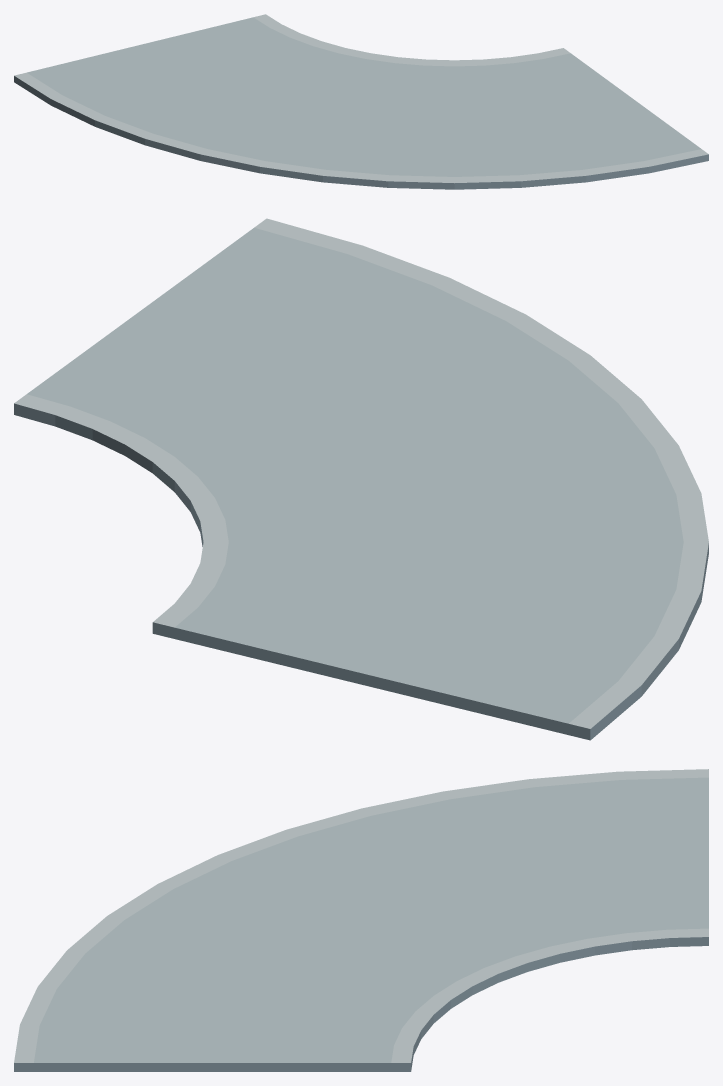
Rendered from campus_walk_bend_v01.glb.
The picture shows the model from 3 angles, top to bottom: view 1: azimuth 30°, elevation 25°; view 2: azimuth 150°, elevation 25°; view 3: azimuth 270°, elevation 25°; orthographic projection. The views are drawn at different scales.
Parts seen in each view (by area): view 1: campus_walk_bend; view 2: campus_walk_bend; view 3: campus_walk_bend.
Part boxes in pixels (box(x1,y1,x2,y2)): campus_walk_bend: box(14, 14, 708, 189); campus_walk_bend: box(14, 218, 708, 740); campus_walk_bend: box(14, 769, 708, 1071).
Size of the model in its own units: 5.6 by 0.08 by 5.6.
